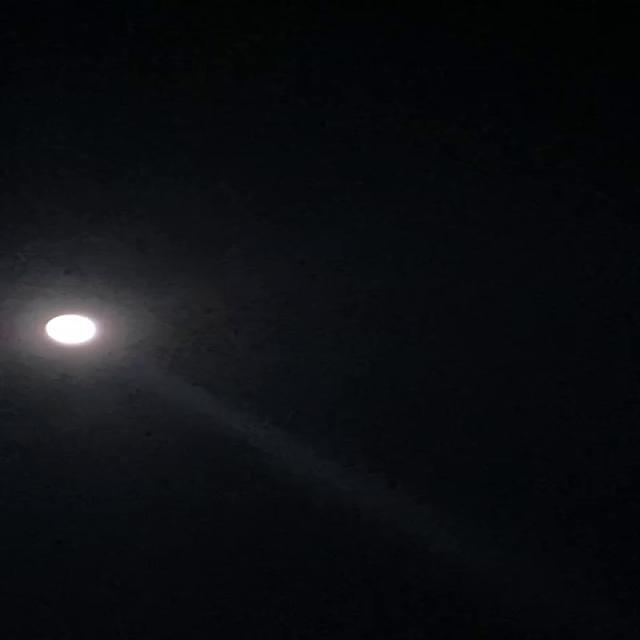moon: (24, 306, 115, 352)
